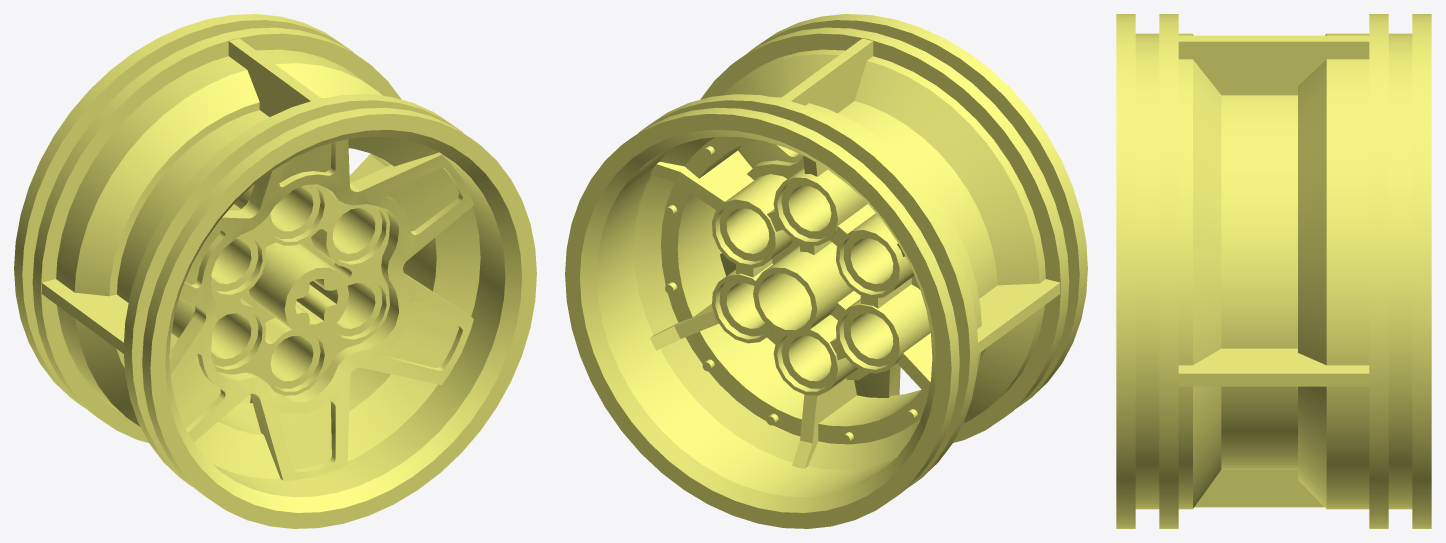
The picture shows the model from 3 angles, left to right: view 1: azimuth 30°, elevation 25°; view 2: azimuth 150°, elevation 25°; view 3: azimuth 270°, elevation 25°; orthographic projection. The views are drawn at different scales.
Parts seen in each view (by area): view 1: 56908.dat; view 2: 56908.dat; view 3: 56908.dat.
Boxes of the visible parts, x1,y1,x2,y2 form: 56908.dat: (14,14,536,528); 56908.dat: (565,14,1087,528); 56908.dat: (1116,14,1431,528).
Bounding box in the file's own units: 0.0432 × 0.0432 × 0.0264.
